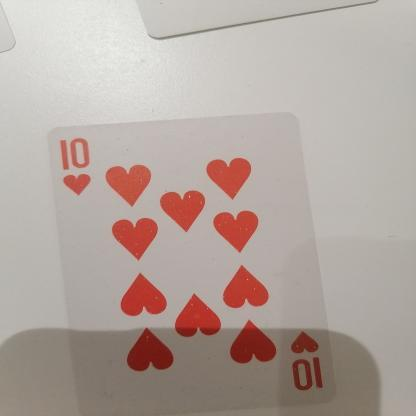10H: (276, 327, 336, 396), (50, 130, 99, 198)
